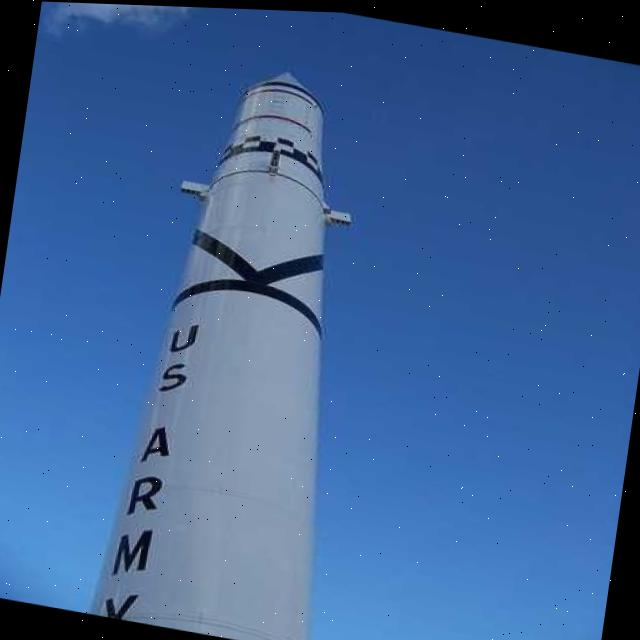missile: (87, 44, 380, 640)
